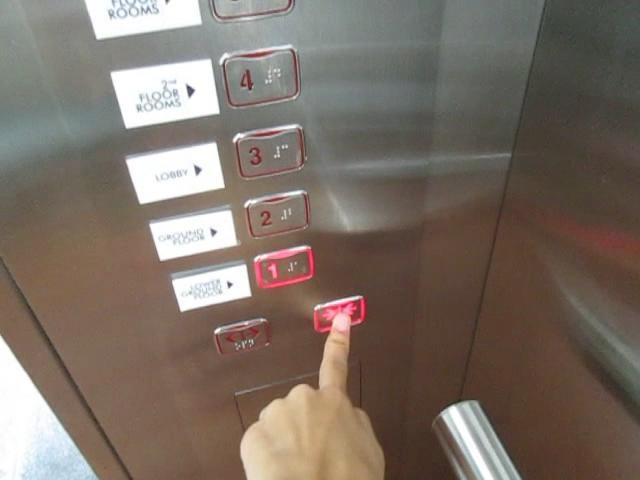1: (253, 244, 316, 291)
2: (244, 190, 311, 239)
3: (234, 123, 306, 181)
4: (219, 45, 301, 108)
close: (313, 294, 366, 336)
open: (211, 318, 270, 361)
